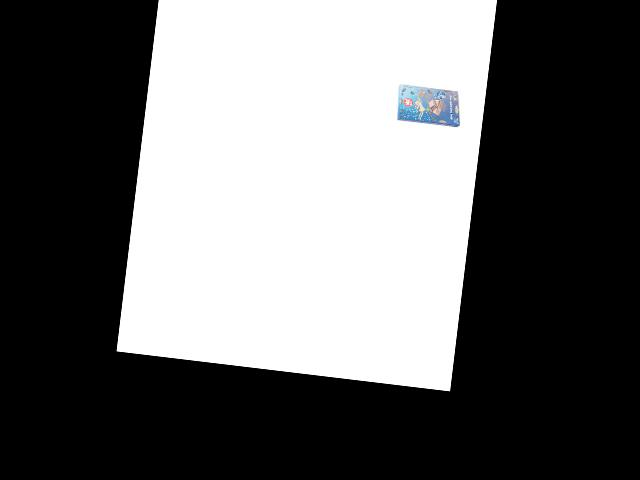chocolate: (393, 79, 464, 132)
